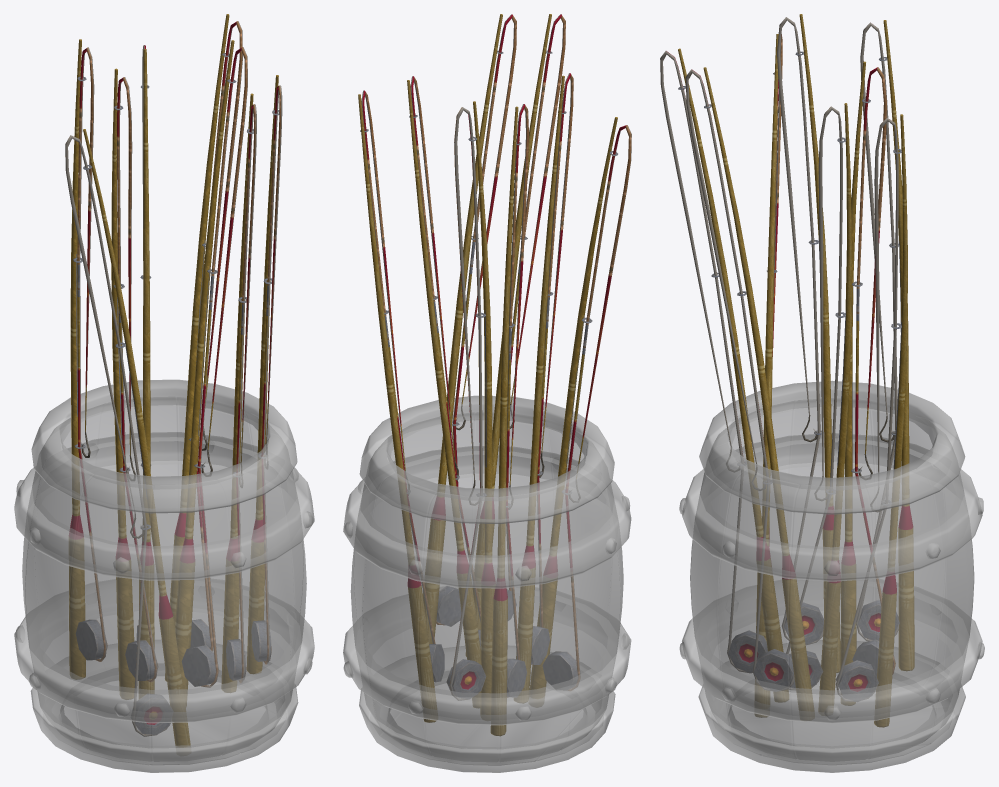
The model's file is SM_BarrelFishing_01.fbx.
The picture shows the model from 3 angles, left to right: view 1: azimuth 30°, elevation 25°; view 2: azimuth 150°, elevation 25°; view 3: azimuth 270°, elevation 25°; orthographic projection. The views are drawn at different scales.
Visible parts, largest first — view 1: SM_BarrelFishing_01; view 2: SM_BarrelFishing_01; view 3: SM_BarrelFishing_01.
Boxes of the visible parts, x1,y1,x2,y2 form: SM_BarrelFishing_01: [14, 14, 314, 772]; SM_BarrelFishing_01: [343, 14, 631, 772]; SM_BarrelFishing_01: [660, 14, 984, 772].
Size of the model in its own units: 102 by 251 by 108.
